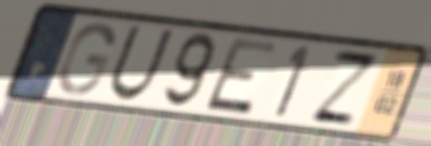1: (272, 43, 314, 122)
9: (160, 32, 221, 110)
E: (200, 36, 281, 118)
G: (56, 21, 117, 97)
U: (106, 23, 177, 104)
Z: (306, 47, 384, 129)
